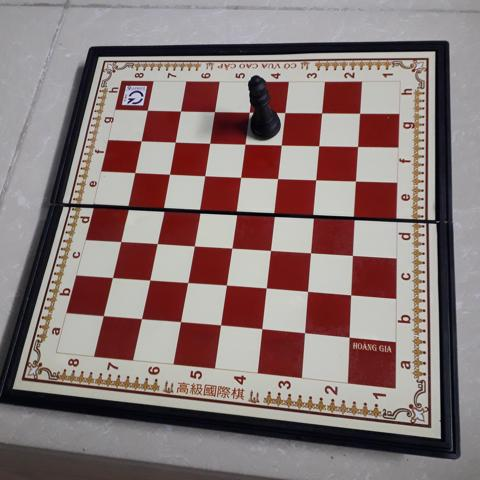xcorner: (185, 236, 200, 251), (229, 202, 244, 217), (133, 310, 147, 325), (213, 317, 227, 332), (342, 329, 357, 343), (103, 268, 117, 283), (345, 286, 359, 301), (191, 201, 206, 215), (197, 166, 211, 181), (133, 132, 147, 147), (167, 133, 182, 147), (173, 103, 188, 117), (279, 104, 294, 118), (95, 307, 109, 321), (173, 314, 187, 328), (255, 321, 269, 335), (298, 325, 312, 339), (141, 271, 155, 285), (179, 274, 193, 288), (219, 277, 233, 291), (260, 280, 274, 294), (302, 283, 316, 297), (111, 232, 125, 246), (148, 234, 162, 248), (224, 239, 238, 253), (264, 241, 278, 255), (305, 244, 319, 258), (347, 246, 361, 260), (119, 197, 133, 211), (155, 199, 169, 213), (268, 204, 282, 218), (308, 206, 322, 220), (349, 208, 363, 222), (126, 164, 140, 178), (161, 165, 175, 179), (234, 168, 248, 182), (272, 169, 286, 183), (311, 171, 325, 185), (351, 172, 365, 186), (203, 134, 217, 148), (239, 135, 253, 149), (276, 136, 290, 150), (314, 137, 328, 151), (353, 138, 367, 152), (140, 102, 154, 116), (208, 103, 222, 117), (243, 104, 257, 118), (317, 105, 331, 119), (355, 105, 369, 119)
